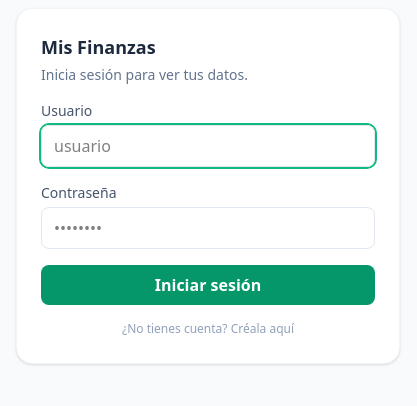
Test case: LoginScreen › valida el formato del usuario
Type "a" into the field with placeholder "usuario".
click(208, 146); type("a")  # box [41,125,375,167]
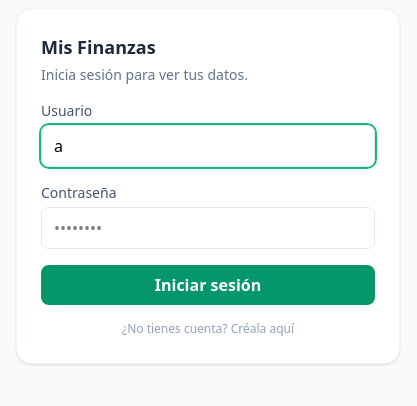
Type "clave123" into the password field with placeholder "••••••••".
click(208, 228); type("clave123")  # box [41,207,375,249]
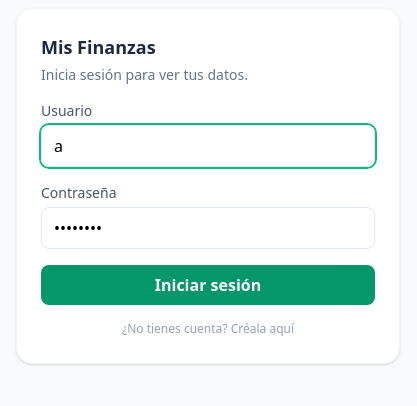
Click the button "Iniciar sesión".
click(208, 285)  # box [41,265,375,305]
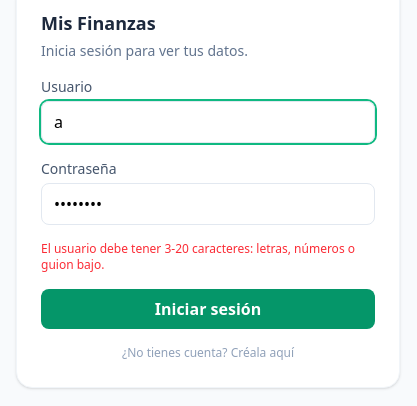
Result: the text "El usuario debe tener 3-20 caracteres: letras, números o guion bajo." is shown at [41,241,375,273]
